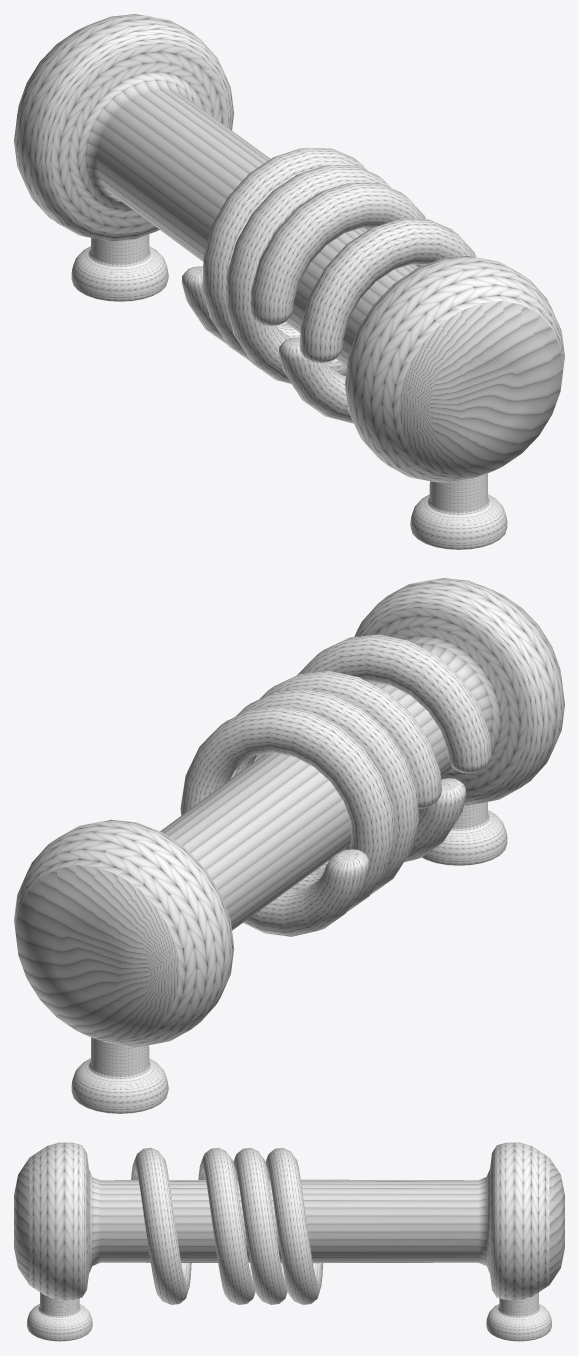
The model's file is Lencuonthanh.fbx.
3 renders of one model, top to bottom at view 1: azimuth 30°, elevation 25°; view 2: azimuth 150°, elevation 25°; view 3: azimuth 270°, elevation 25°, orthographic. The views are drawn at different scales.
Visible parts, largest first — view 1: Cylinder, Spiral, Spiral.001, Cylinder.001; view 2: Cylinder, Spiral, Spiral.001, Cylinder.001; view 3: Cylinder, Spiral, Spiral.001, Cylinder.001.
Part boxes in pixels (left/top/right/bottom): Cylinder: left=14, top=14, right=564, bottom=483; Spiral: left=181, top=147, right=425, bottom=383; Spiral.001: left=279, top=219, right=475, bottom=423; Cylinder.001: left=71, top=234, right=507, bottom=549; Cylinder: left=14, top=578, right=564, bottom=1047; Spiral: left=180, top=670, right=441, bottom=936; Spiral.001: left=297, top=634, right=491, bottom=862; Cylinder.001: left=71, top=802, right=507, bottom=1113; Cylinder: left=14, top=1142, right=564, bottom=1300; Spiral: left=198, top=1147, right=323, bottom=1305; Spiral.001: left=131, top=1147, right=191, bottom=1304; Cylinder.001: left=27, top=1292, right=551, bottom=1341.
Bounding box in the file's own units: 2.68 × 3.34 × 9.33.
